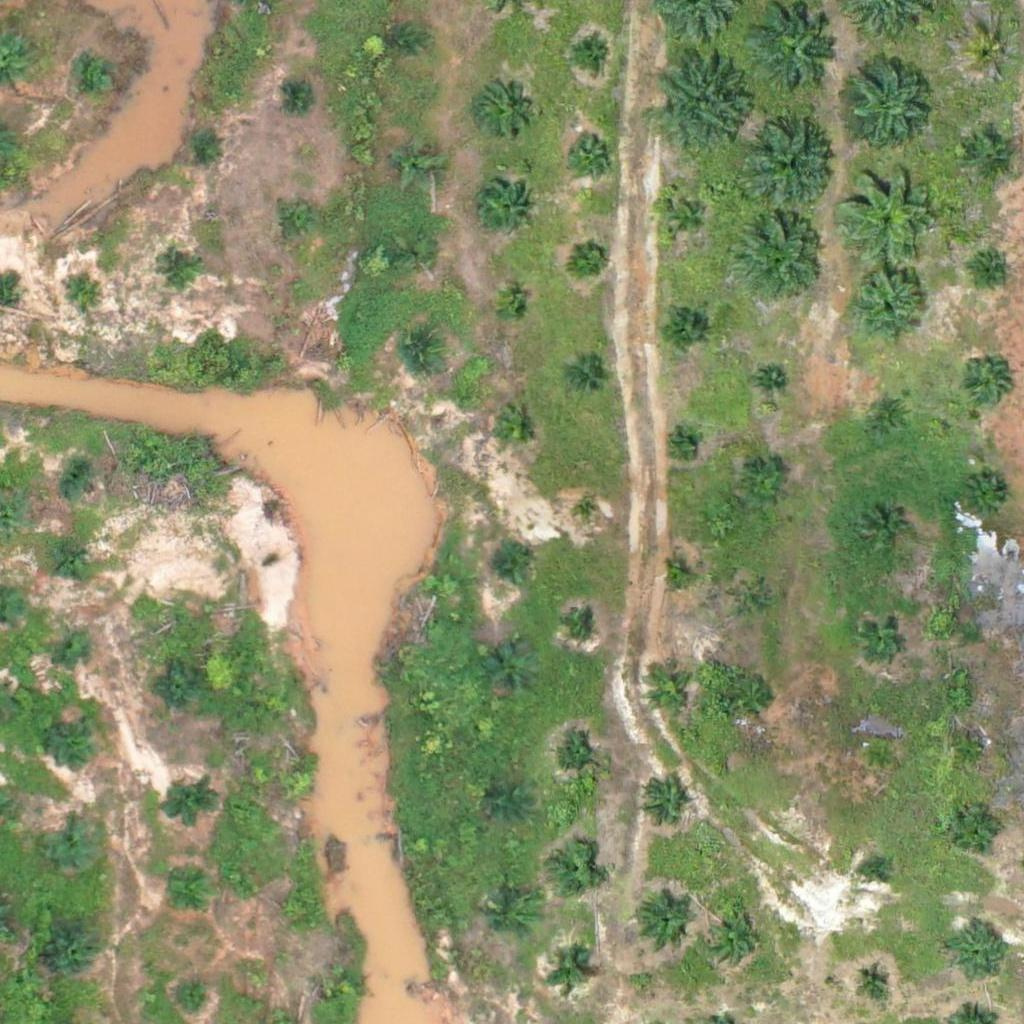Kelapa_Sawit: (837, 162, 937, 263), (655, 54, 755, 155), (844, 263, 932, 351), (735, 212, 823, 300), (747, 120, 835, 208), (754, 7, 842, 95), (844, 52, 931, 140), (43, 818, 106, 881), (701, 907, 764, 970), (945, 921, 1007, 984), (474, 178, 536, 241), (635, 889, 697, 952), (50, 925, 100, 976), (731, 672, 781, 723), (951, 802, 1001, 853), (477, 81, 527, 132), (644, 666, 694, 717), (490, 405, 540, 456), (393, 138, 443, 189), (51, 716, 101, 766), (965, 130, 1015, 180), (552, 737, 602, 787), (550, 846, 600, 896), (639, 779, 689, 829), (164, 780, 214, 830), (162, 870, 212, 920), (959, 359, 1009, 409), (962, 473, 1012, 523), (859, 612, 909, 662), (859, 505, 909, 555), (866, 391, 916, 441), (739, 461, 789, 511), (658, 301, 708, 351), (486, 645, 536, 695), (155, 665, 205, 715), (966, 30, 1016, 80), (661, 192, 711, 242), (566, 128, 616, 178), (488, 896, 538, 946), (549, 951, 587, 989), (273, 889, 311, 927), (279, 764, 317, 802), (490, 546, 528, 584), (383, 23, 421, 61), (57, 624, 95, 662), (57, 537, 95, 575), (56, 462, 94, 500), (76, 60, 113, 98), (856, 962, 893, 1000), (327, 964, 364, 1002), (860, 738, 898, 775), (734, 583, 772, 620), (493, 290, 531, 327), (490, 784, 527, 822), (571, 34, 608, 72), (283, 78, 321, 115), (159, 253, 196, 291), (400, 236, 438, 273), (573, 238, 610, 276), (63, 277, 100, 315), (953, 732, 990, 770), (173, 983, 210, 1020), (569, 362, 606, 399), (401, 334, 438, 371), (181, 126, 218, 163), (278, 204, 315, 241), (862, 859, 887, 884), (670, 432, 695, 457), (663, 562, 688, 587), (575, 501, 600, 526), (569, 613, 594, 638), (980, 258, 1005, 283), (758, 368, 782, 393)
